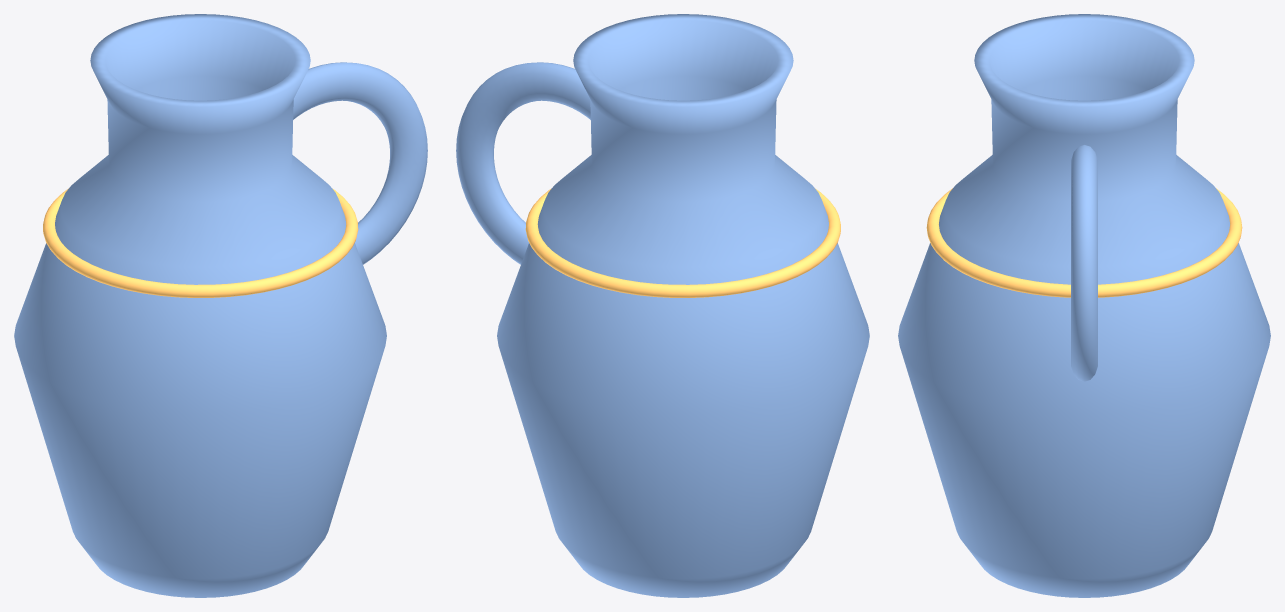
File: cobalt_pitcher.glb
3 renders of one model, left to right at view 1: azimuth 30°, elevation 25°; view 2: azimuth 150°, elevation 25°; view 3: azimuth 270°, elevation 25°, orthographic.
Visible parts, largest first — view 1: cobalt_pitcher; view 2: cobalt_pitcher; view 3: cobalt_pitcher.
Part boxes in pixels (left/top/right/bottom): cobalt_pitcher: left=14, top=14, right=427, bottom=597; cobalt_pitcher: left=456, top=14, right=869, bottom=597; cobalt_pitcher: left=898, top=14, right=1270, bottom=597.
Size of the model in its own units: 0.264 by 0.32 by 0.22.
